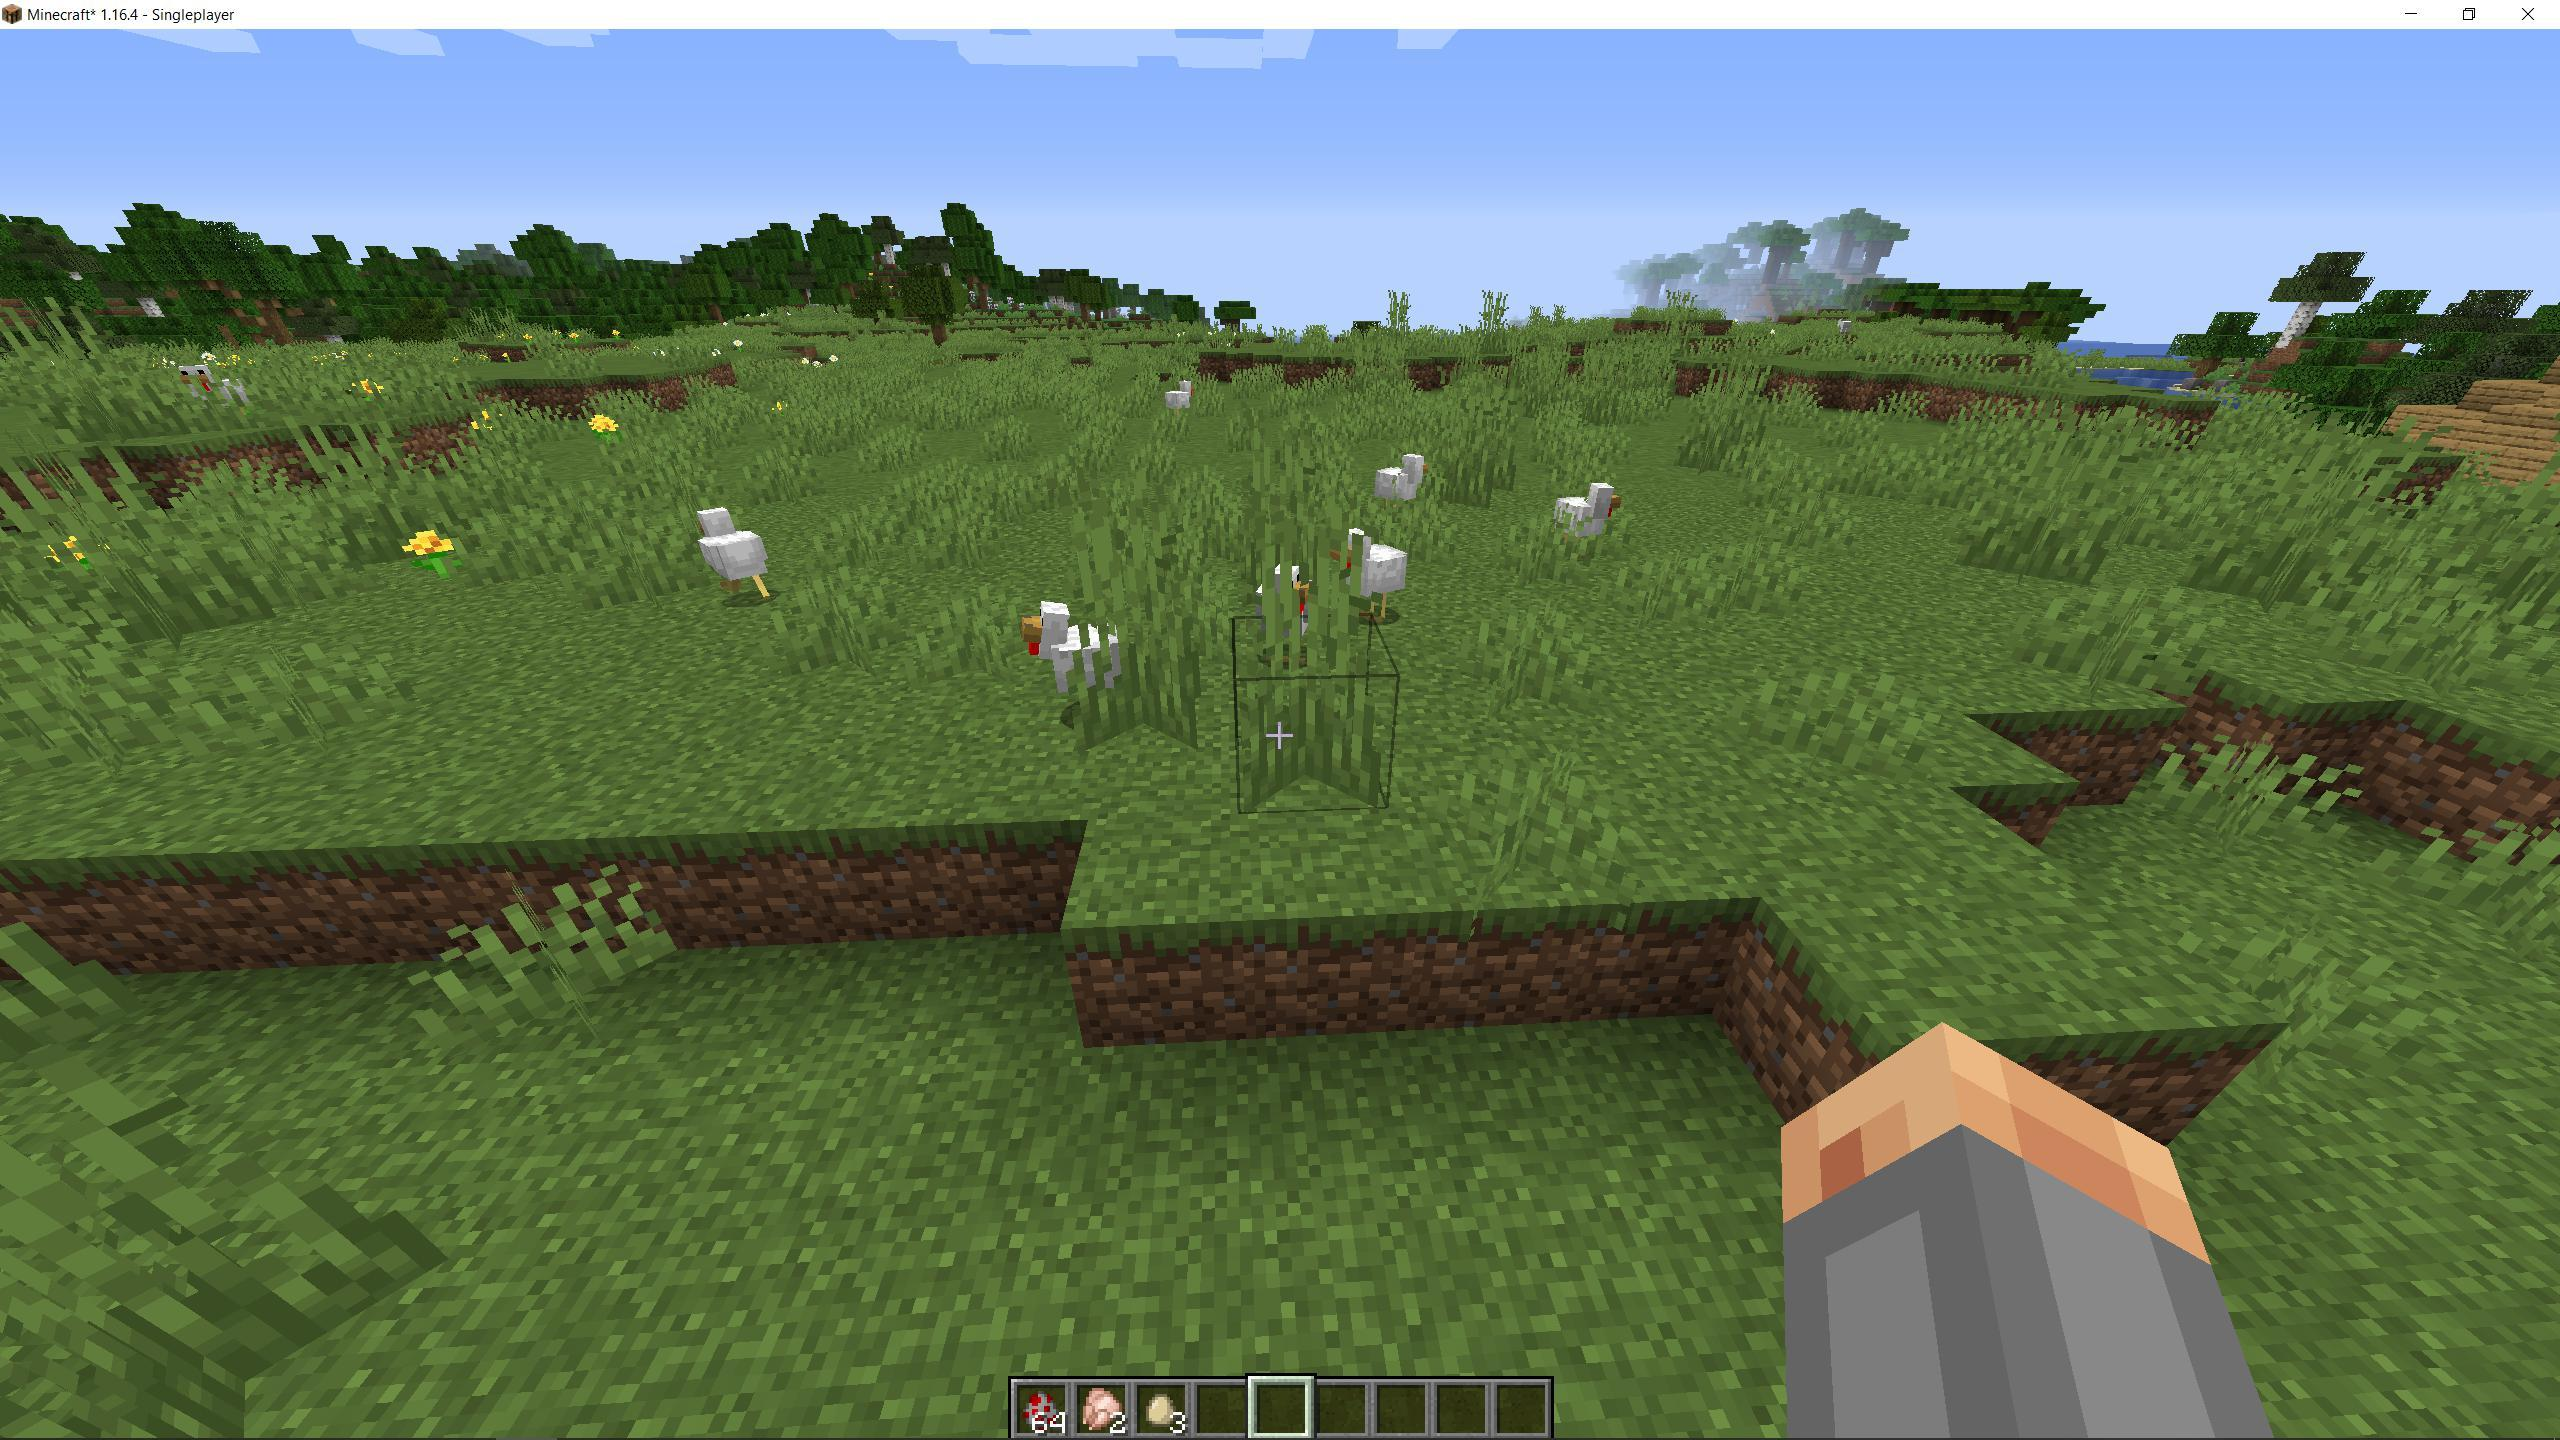chicken: (1018, 596, 1139, 703), (1329, 527, 1408, 628), (696, 506, 774, 601), (1554, 476, 1623, 566), (1378, 452, 1429, 520), (1160, 375, 1199, 427)
